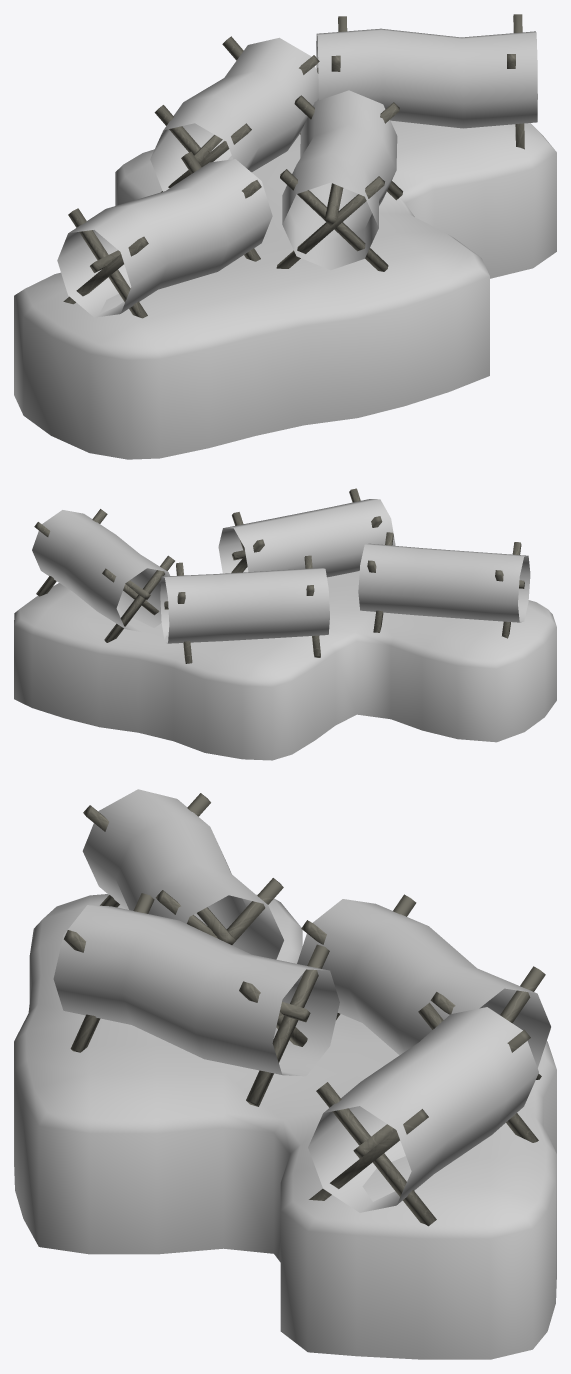
The model's file is wire3.fbx.
The picture shows the model from 3 angles, top to bottom: view 1: azimuth 30°, elevation 25°; view 2: azimuth 150°, elevation 25°; view 3: azimuth 270°, elevation 25°; orthographic projection. The views are drawn at different scales.
Visible parts, largest first — view 1: Cube.142; view 2: Cube.142; view 3: Cube.142.
Boxes of the visible parts, x1,y1,x2,y2 form: Cube.142: (14, 14, 556, 459); Cube.142: (14, 488, 556, 760); Cube.142: (14, 789, 556, 1359).
Size of the model in its own units: 621 by 216 by 407.
